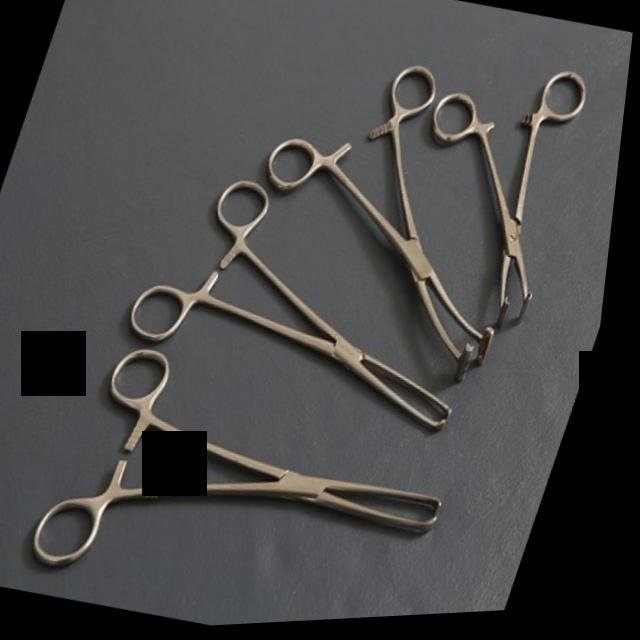Allis Forceps: (28, 318, 498, 636), (104, 136, 537, 477)
